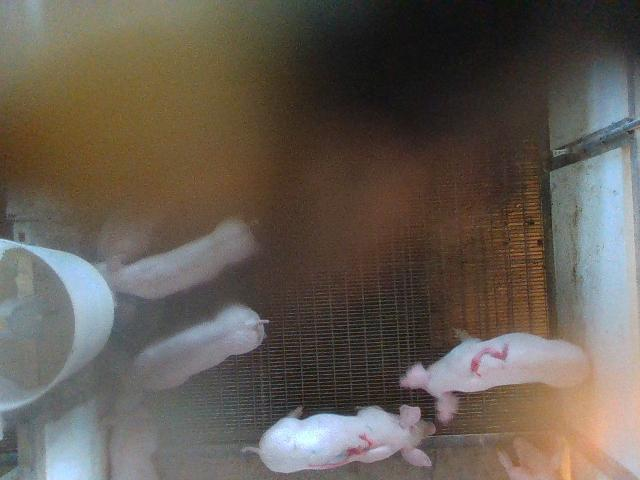pig-2: (400, 332, 589, 423)
pig-3: (244, 405, 435, 472)
